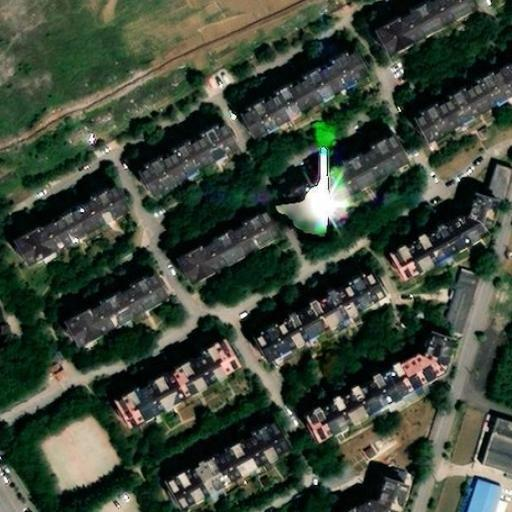building: (295, 342, 454, 457), (249, 279, 386, 372), (278, 140, 407, 231), (112, 344, 237, 435), (241, 58, 370, 144), (158, 430, 288, 512), (387, 204, 500, 294), (26, 185, 143, 265), (67, 283, 173, 363), (175, 222, 281, 298), (412, 68, 512, 147), (134, 127, 235, 199), (369, 0, 473, 68), (428, 134, 483, 182), (478, 157, 512, 201), (485, 439, 512, 488), (368, 483, 408, 512), (473, 491, 506, 512)
